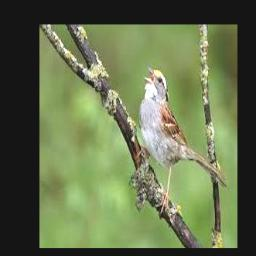Sparrow: (138, 66, 227, 217)
